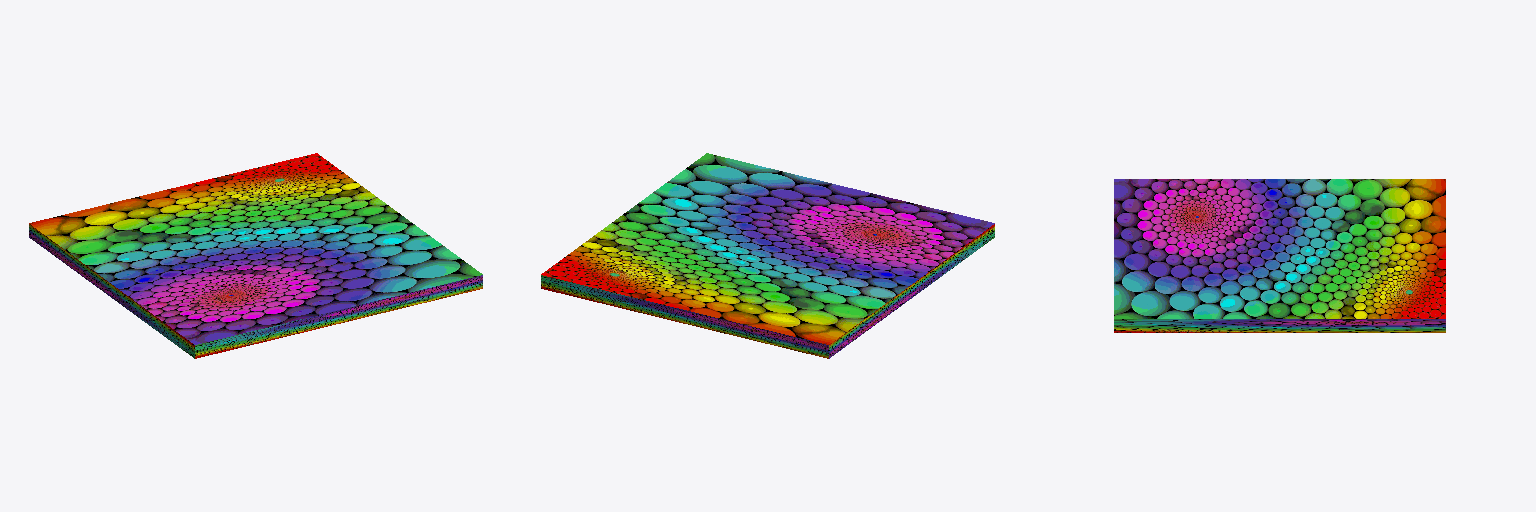
3 views of the same model, side by side, from view 1: azimuth 30°, elevation 25°; view 2: azimuth 150°, elevation 25°; view 3: azimuth 270°, elevation 25° (orthographic).
Parts seen in each view (by area): view 1: Cube.001; view 2: Cube.001; view 3: Cube.001.
Part boxes in pixels (left/top/right/bottom): Cube.001: left=29, top=153, right=482, bottom=358; Cube.001: left=541, top=153, right=994, bottom=358; Cube.001: left=1114, top=179, right=1445, bottom=332.
Size of the model in its own units: 86.33 by 3.94 by 86.33.
1 materials, 1 textured.